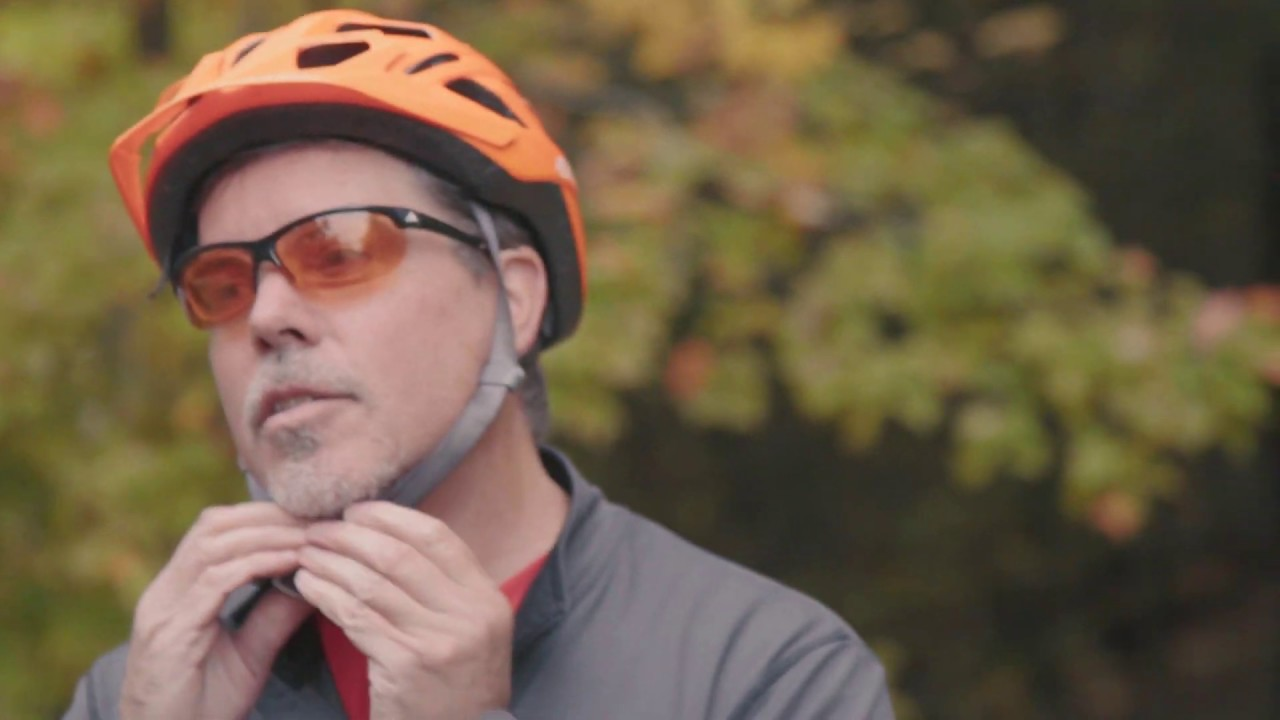helmet: (107, 9, 590, 517)
